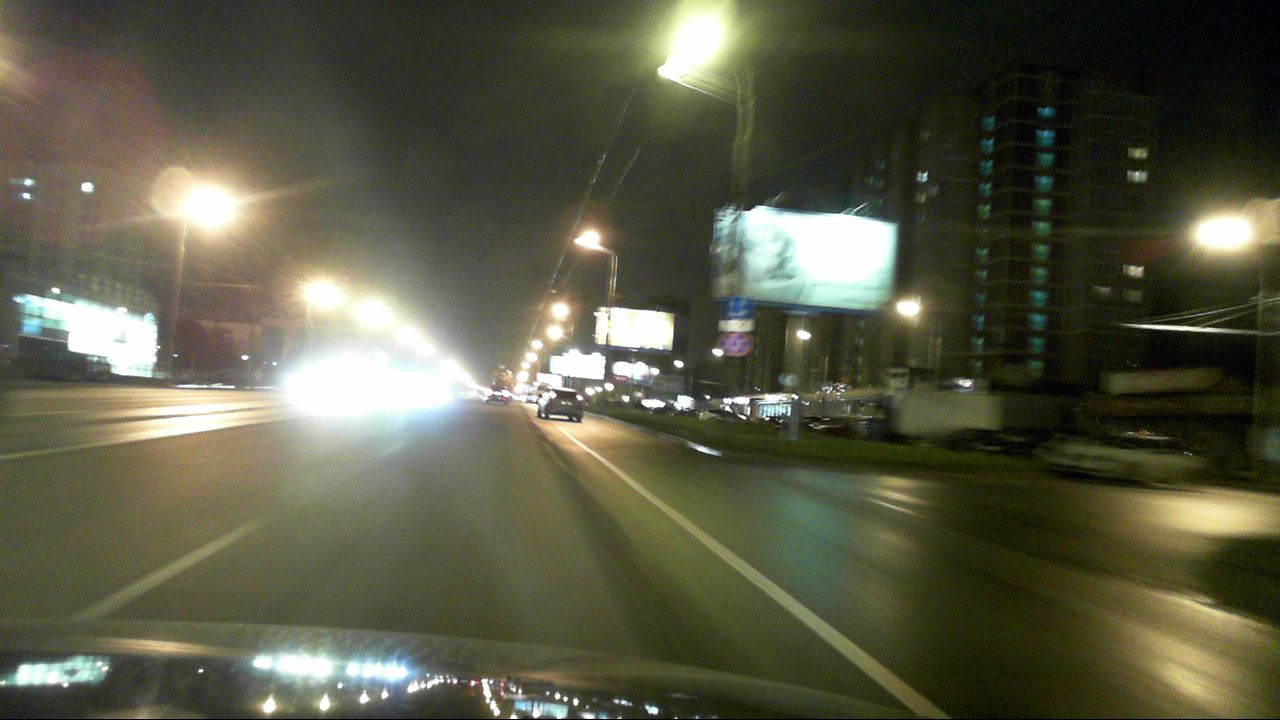No Parking: (726, 333, 752, 356)
